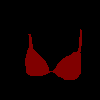reggiseno: (25, 28, 82, 80)
